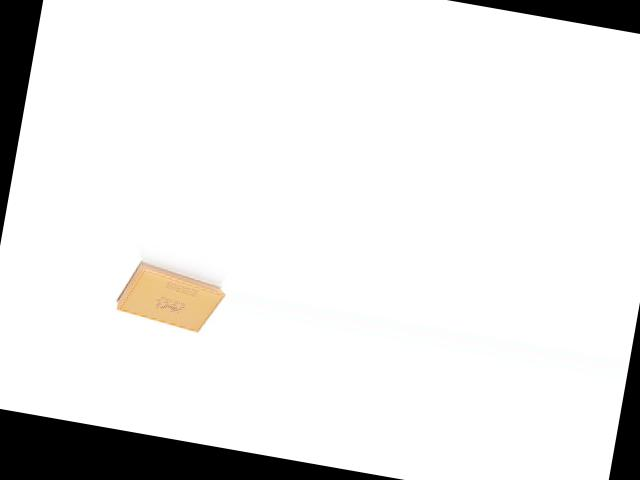chocolate: (110, 249, 229, 339)
